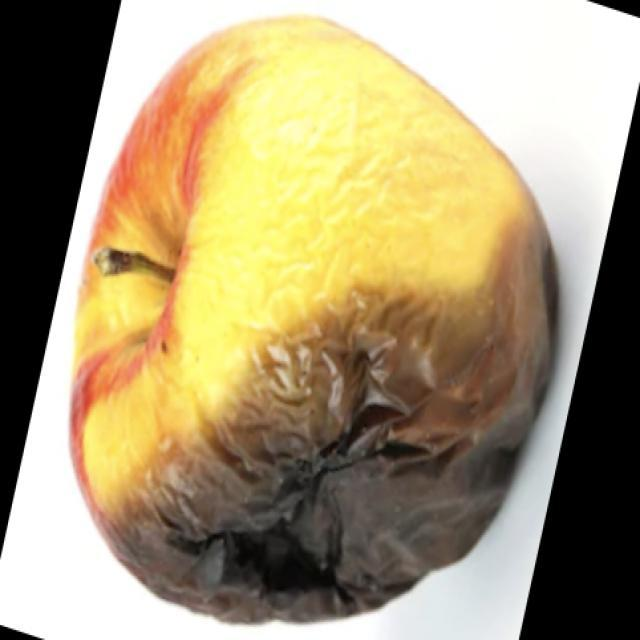Rotten: (66, 22, 556, 613)
